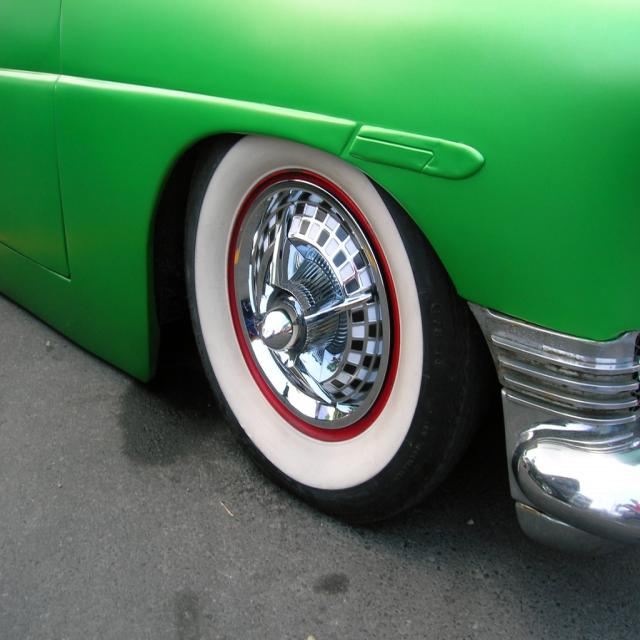other: (71, 27, 628, 544)
